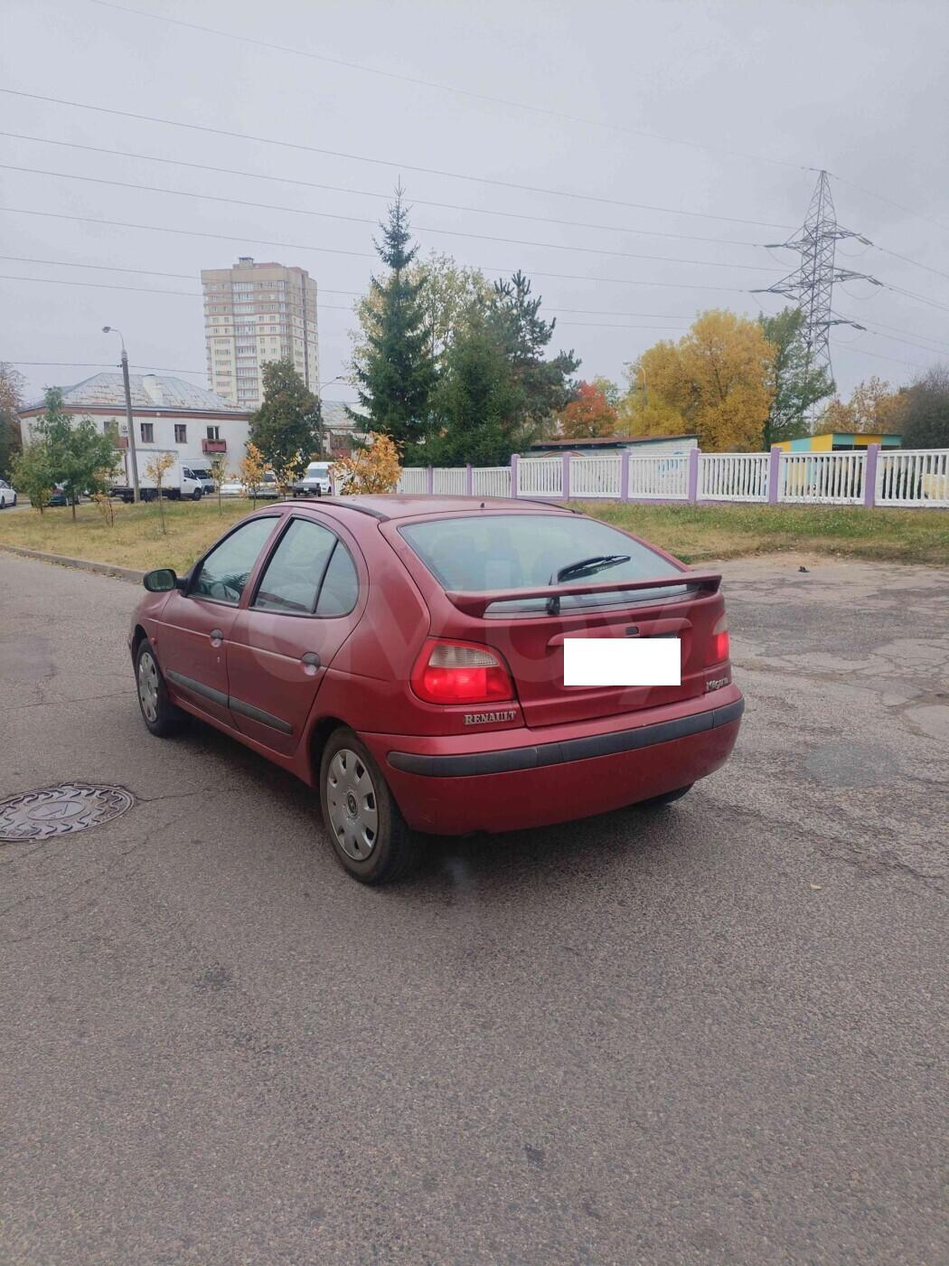Megane_1999-2003: (125, 494, 745, 892)
